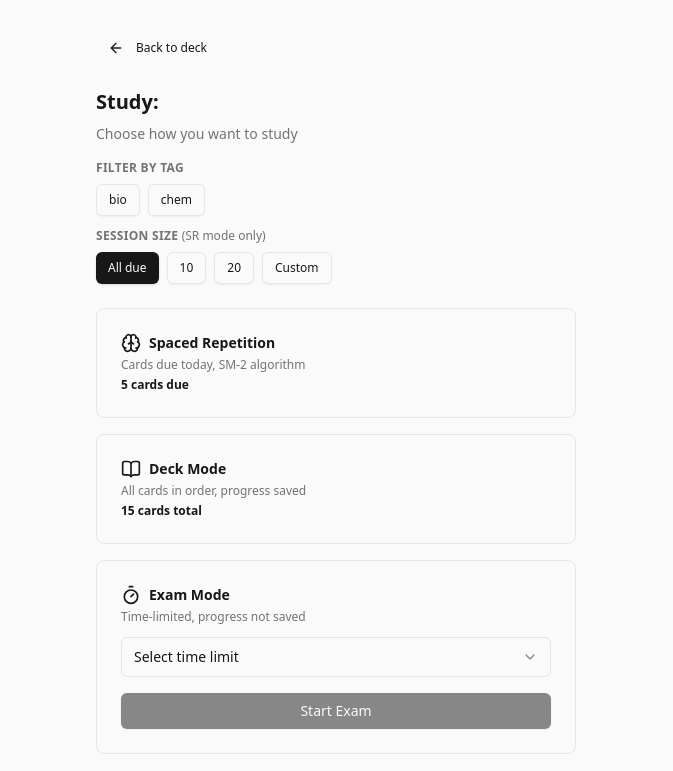
Test case: StudySessionPage config section › STUDY-01c: tags "bio" and "chem" selected — OR logic; neither-tagged card excluded
This screenshot has width=673, height=771.
Expected: the text "Filter by tag" is shown, [96,159,184,176]
Step 1. Click the button "bio" → (118, 200), box [96,184,140,216]
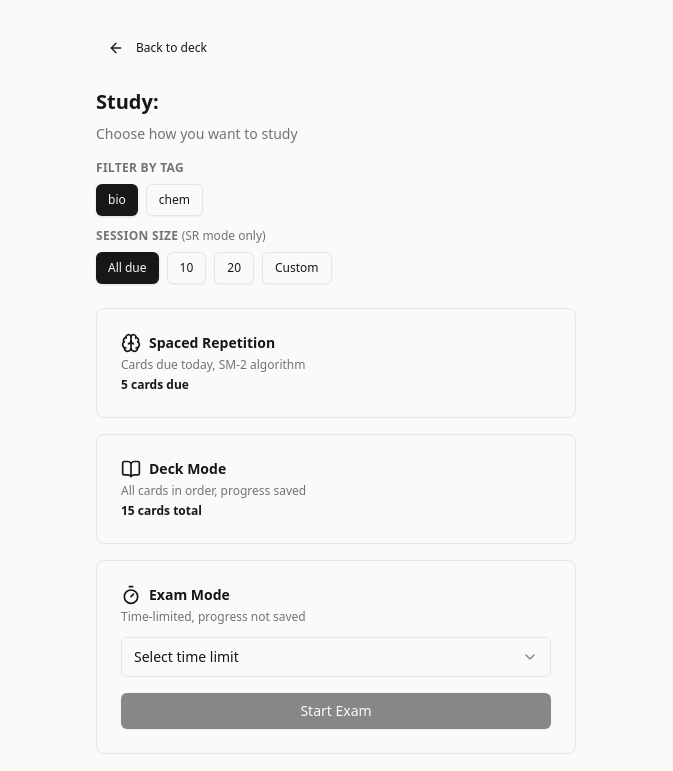
Step 2. Click the button "chem" → (174, 200), box [146,184,203,216]
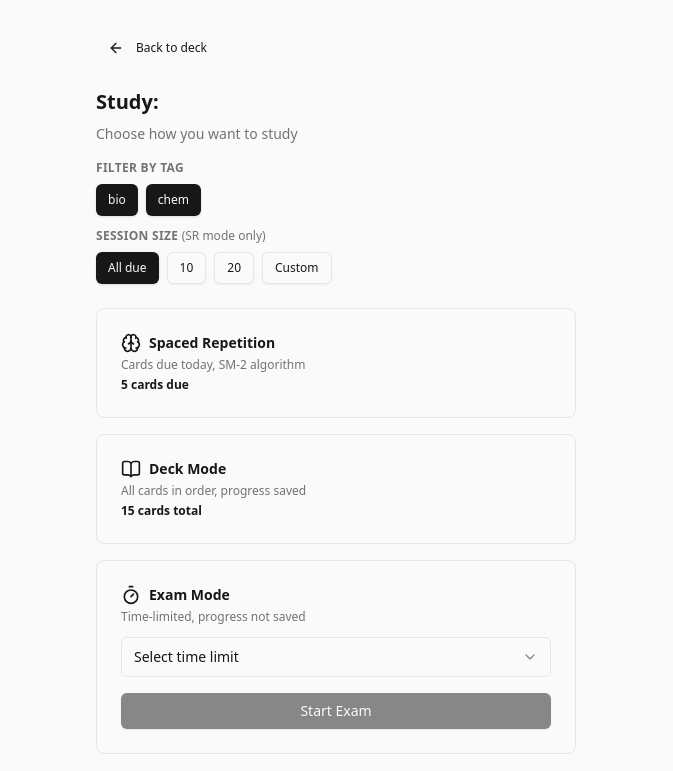
Step 3. Click the button "Spaced Repetition" → (212, 342), box [96,308,576,418]
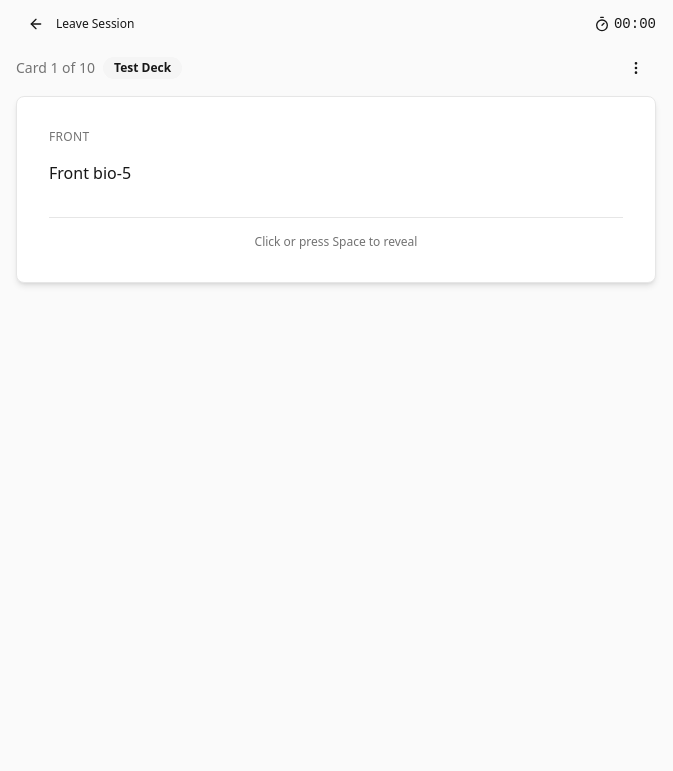
Now the text "Card 1 of 10" is shown, box [16,58,95,78]
